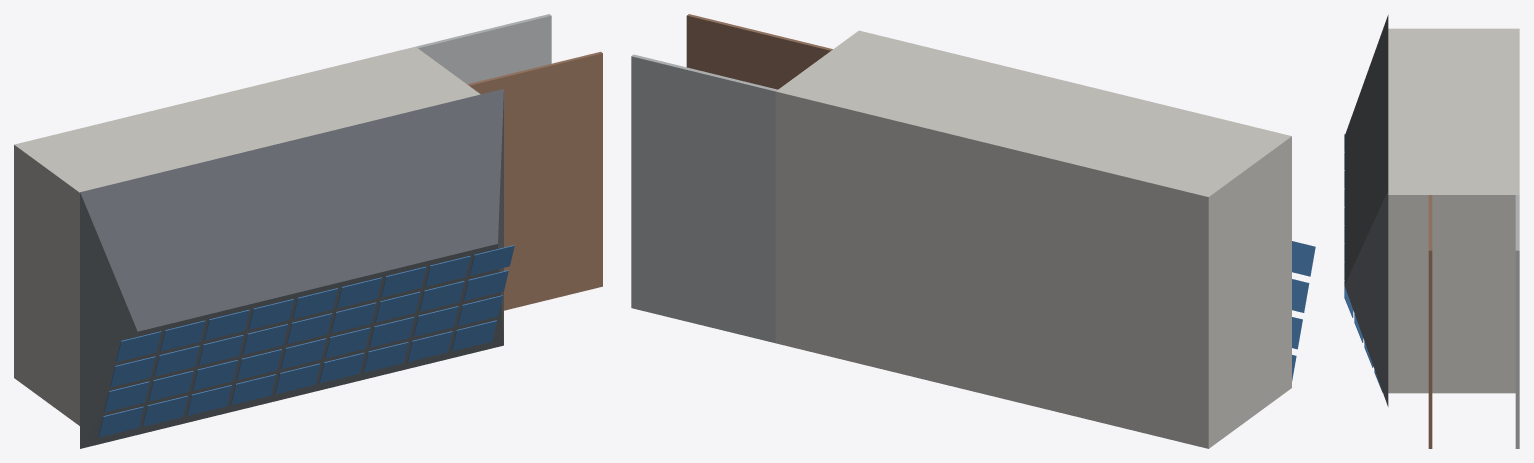
File: generated_75058a9276.glb
3 renders of one model, left to right at view 1: azimuth 30°, elevation 25°; view 2: azimuth 150°, elevation 25°; view 3: azimuth 270°, elevation 25°, orthographic. The views are drawn at different scales.
Parts seen in each view (by area): view 1: hip_roof, house_body, front_porch_roof, front_porch_slab, solar_panel_1, solar_panel_2, solar_panel_9, solar_panel_11, solar_panel_14, solar_panel_19, solar_panel_20, solar_panel_26 (+28 smaller); view 2: house_body, front_porch_slab, front_porch_roof, solar_panel_27; view 3: house_body, hip_roof, front_porch_slab, front_porch_roof.
Part boxes in pixels (left/top/right/bottom): hip_roof: left=80, top=89, right=503, bottom=448; house_body: left=14, top=46, right=480, bottom=425; front_porch_roof: left=467, top=51, right=602, bottom=310; front_porch_slab: left=416, top=14, right=551, bottom=84; solar_panel_1: left=142, top=395, right=187, bottom=426; solar_panel_2: left=186, top=385, right=231, bottom=415; solar_panel_9: left=104, top=381, right=149, bottom=412; solar_panel_11: left=192, top=360, right=237, bottom=390; solar_panel_14: left=325, top=327, right=370, bottom=358; solar_panel_19: left=154, top=345, right=199, bottom=376; solar_panel_20: left=198, top=335, right=243, bottom=365; solar_panel_26: left=463, top=270, right=508, bottom=300; house_body: left=775, top=30, right=1291, bottom=448; front_porch_slab: left=631, top=54, right=777, bottom=343; front_porch_roof: left=686, top=14, right=832, bottom=89; solar_panel_27: left=1292, top=241, right=1315, bottom=276; house_body: left=1388, top=28, right=1519, bottom=393; hip_roof: left=1344, top=15, right=1388, bottom=406; front_porch_slab: left=1515, top=195, right=1519, bottom=448; front_porch_roof: left=1428, top=195, right=1432, bottom=448.
Size of the model in its own units: 24.5 by 11 by 8.02.
